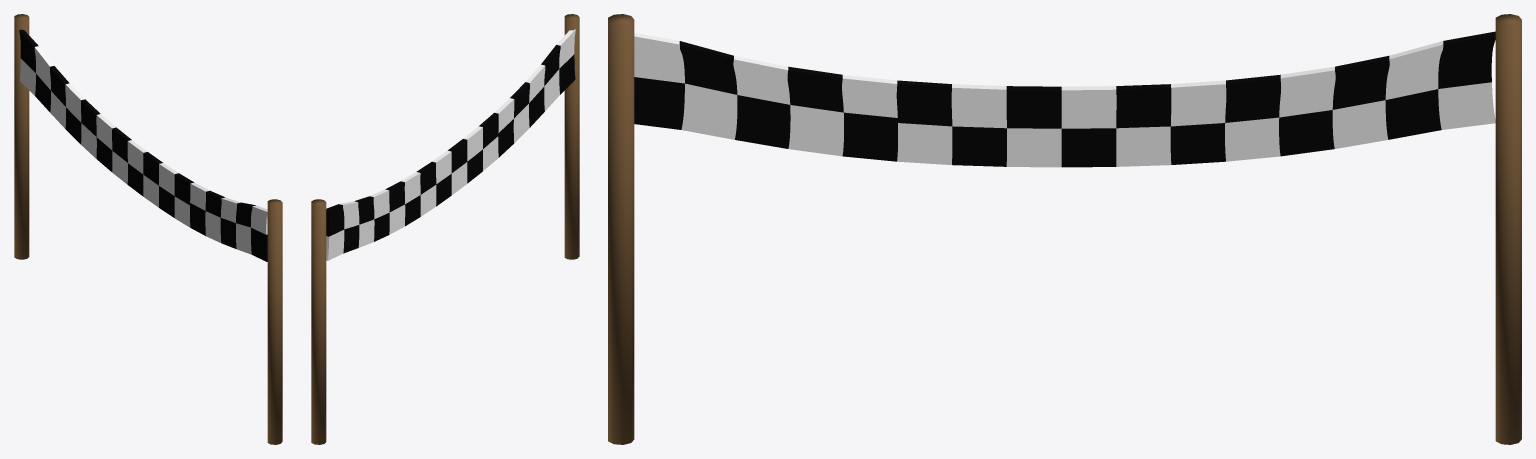
File: DroneRacingTrackFinishLine.fbx
3 renders of one model, left to right at view 1: azimuth 30°, elevation 25°; view 2: azimuth 150°, elevation 25°; view 3: azimuth 270°, elevation 25°, orthographic. The views are drawn at different scales.
Visible parts, largest first — view 1: FinishLine; view 2: FinishLine; view 3: FinishLine.
Boxes of the visible parts, left/top/right/bottom form: FinishLine: left=14, top=14, right=282, bottom=444; FinishLine: left=311, top=14, right=579, bottom=444; FinishLine: left=608, top=14, right=1521, bottom=444.
Bounding box in the file's own units: 63 × 1090 × 2150.
